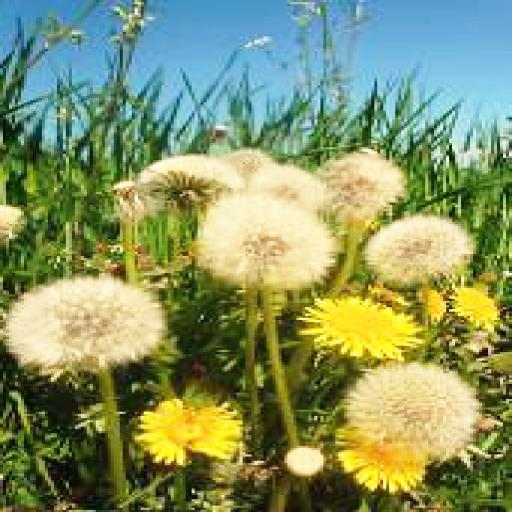dandelion: (6, 275, 168, 371), (350, 358, 482, 461), (192, 192, 329, 288), (300, 290, 422, 363), (362, 215, 473, 284), (138, 403, 246, 459), (318, 147, 408, 209), (140, 154, 246, 202)
